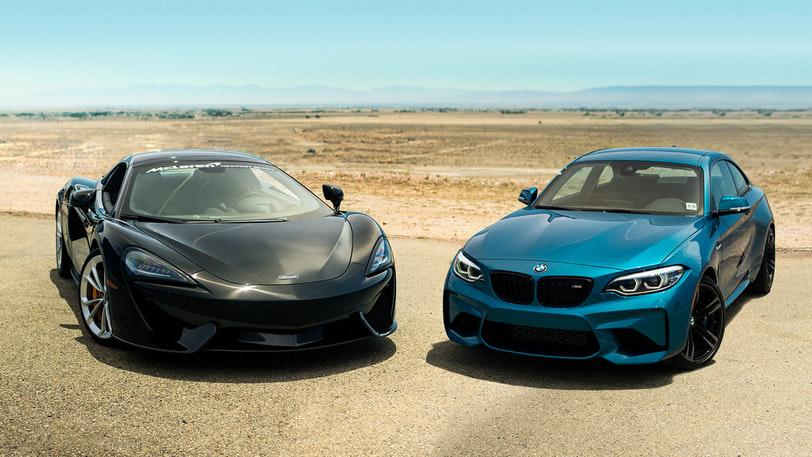car: (438, 136, 795, 395), (45, 146, 419, 365)
